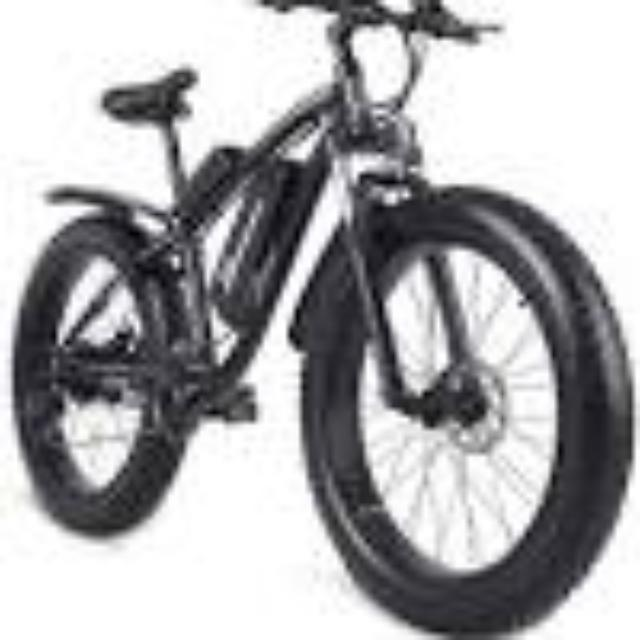obstacle: (5, 0, 640, 634)
